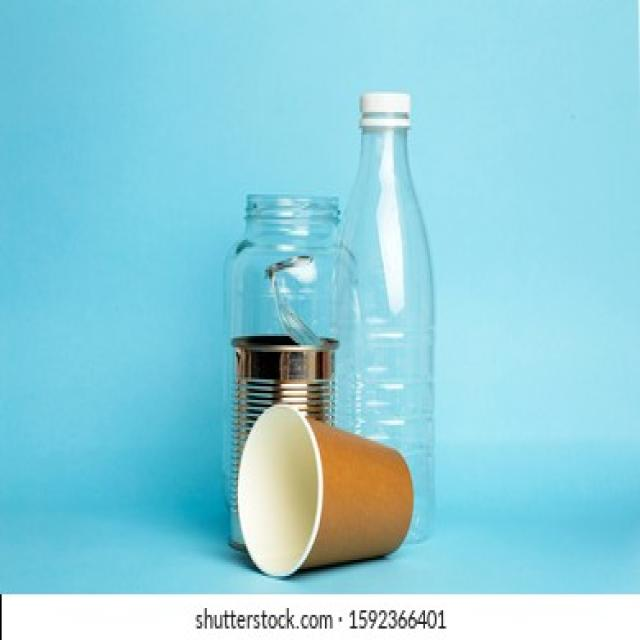cardboard: (269, 430, 396, 569)
metal: (235, 343, 333, 411)
plastic: (358, 176, 440, 391)
